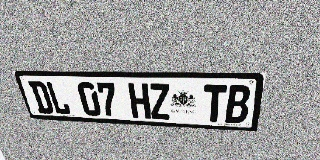0: (76, 82, 102, 116)
7: (95, 82, 120, 117)
B: (225, 85, 252, 124)
D: (28, 81, 55, 114)
H: (128, 83, 151, 119)
L: (45, 81, 71, 115)
T: (203, 84, 227, 122)
Z: (148, 83, 171, 120)
